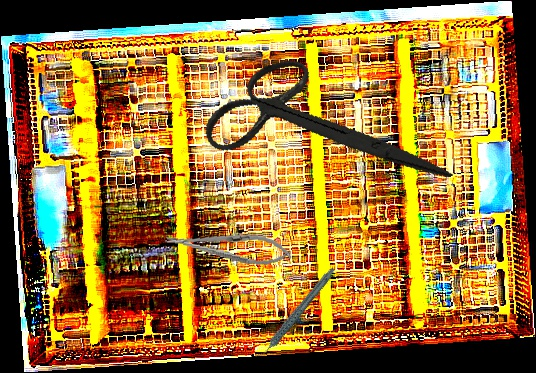Handpiece: (239, 266, 351, 360)
Iris Scissors: (193, 28, 453, 232)
Needle Holder: (162, 223, 295, 270)
